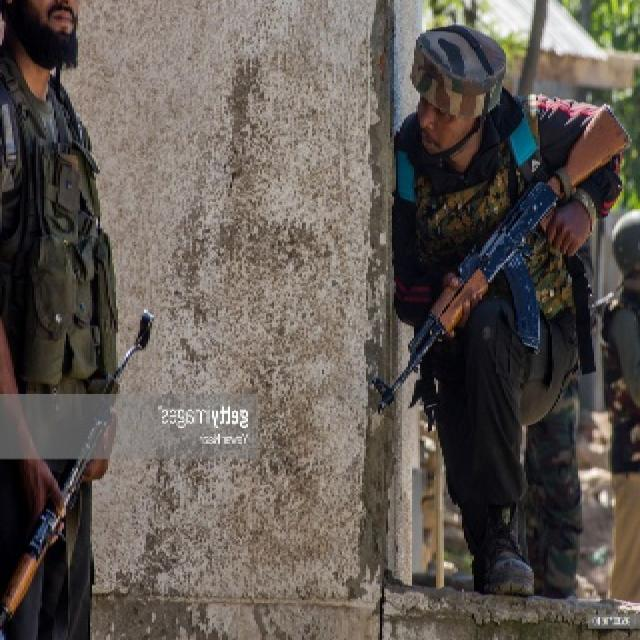handgun: (369, 173, 571, 422)
rifle: (367, 92, 635, 414)
